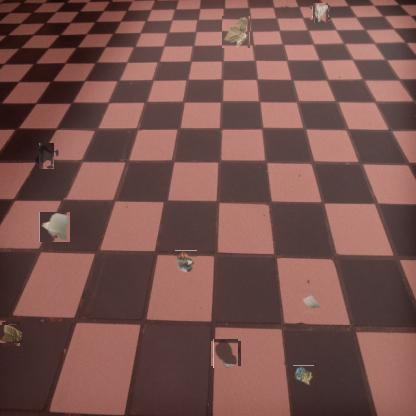dirty: (39, 212, 70, 242), (222, 16, 250, 48), (175, 250, 197, 273), (292, 365, 314, 386), (0, 324, 22, 344), (301, 292, 321, 312), (311, 5, 329, 22)
liquid: (212, 340, 240, 367), (36, 145, 56, 167)
